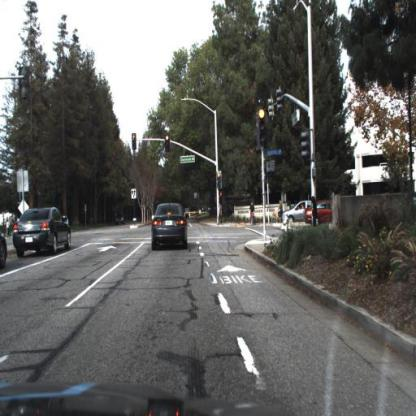biker: (271, 200, 286, 225), (250, 202, 257, 227)
car: (12, 207, 73, 258), (149, 201, 190, 251), (283, 200, 310, 223)
pedestrian: (309, 195, 319, 229), (310, 196, 319, 225), (217, 201, 223, 226)
trafficLight-Red: (257, 105, 269, 148), (258, 109, 267, 145), (165, 135, 172, 152), (216, 173, 222, 189), (19, 189, 24, 201)
trafficLight-RedLeft: (131, 133, 138, 151), (131, 132, 137, 146)
